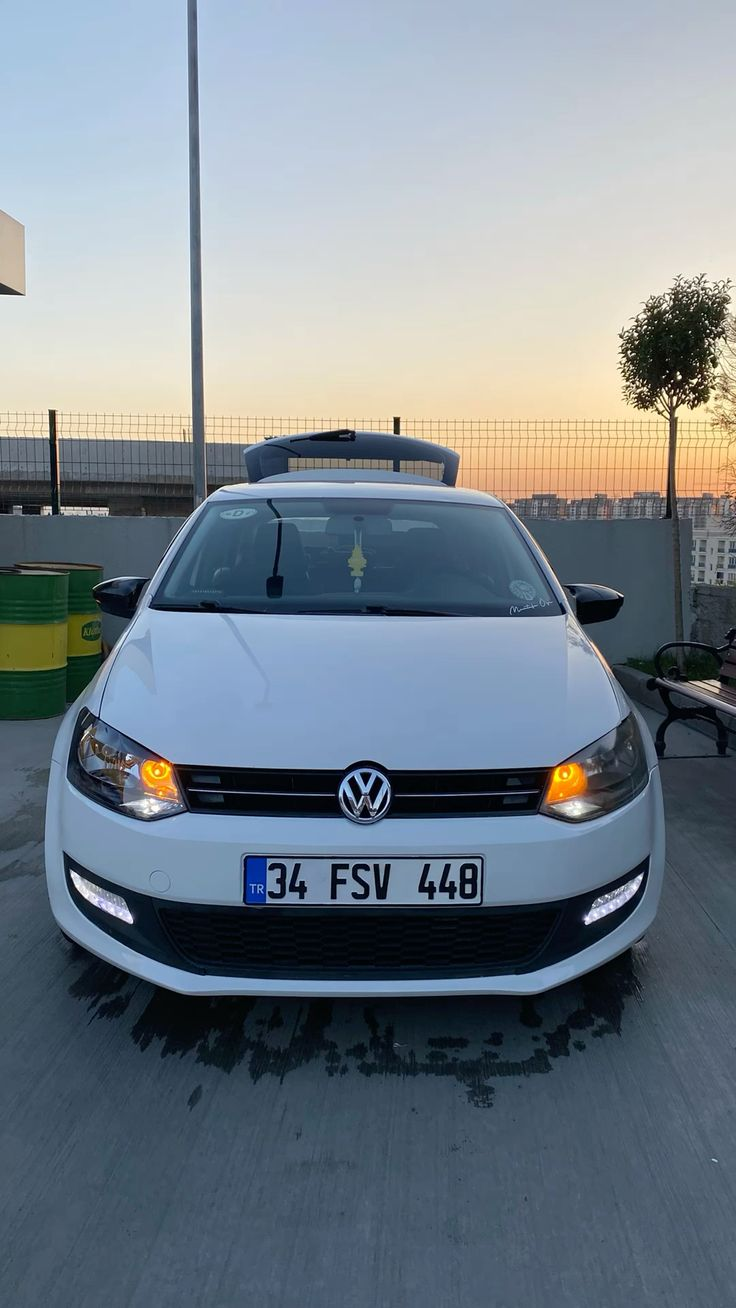plate: (241, 851, 484, 913)
